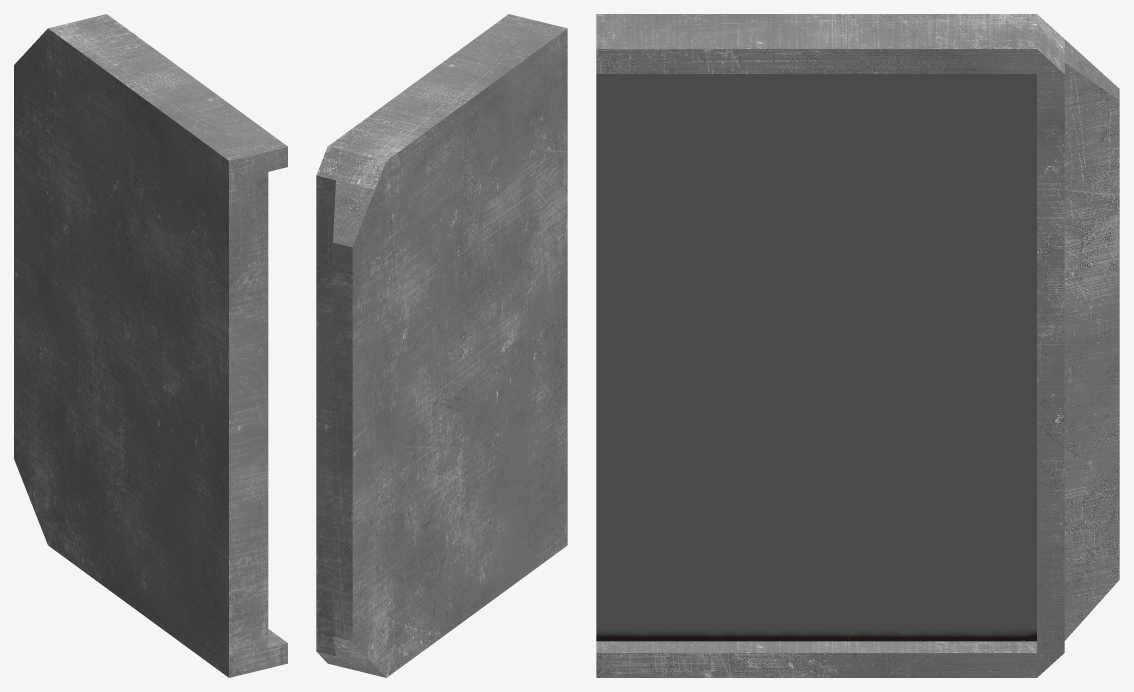
The model's file is Access Card Machine.obj.
3 views of the same model, side by side, from view 1: azimuth 30°, elevation 25°; view 2: azimuth 150°, elevation 25°; view 3: azimuth 270°, elevation 25° (orthographic). The views are drawn at different scales.
Visible parts, largest first — view 1: Access Card Machine; view 2: Access Card Machine; view 3: Access Card Machine.
Part boxes in pixels (x1,y1,x2,y2): Access Card Machine: (14, 14, 287, 677); Access Card Machine: (316, 14, 567, 677); Access Card Machine: (596, 14, 1119, 677).
Bounding box in the file's own units: 0.0375 × 0.315 × 0.2375.
